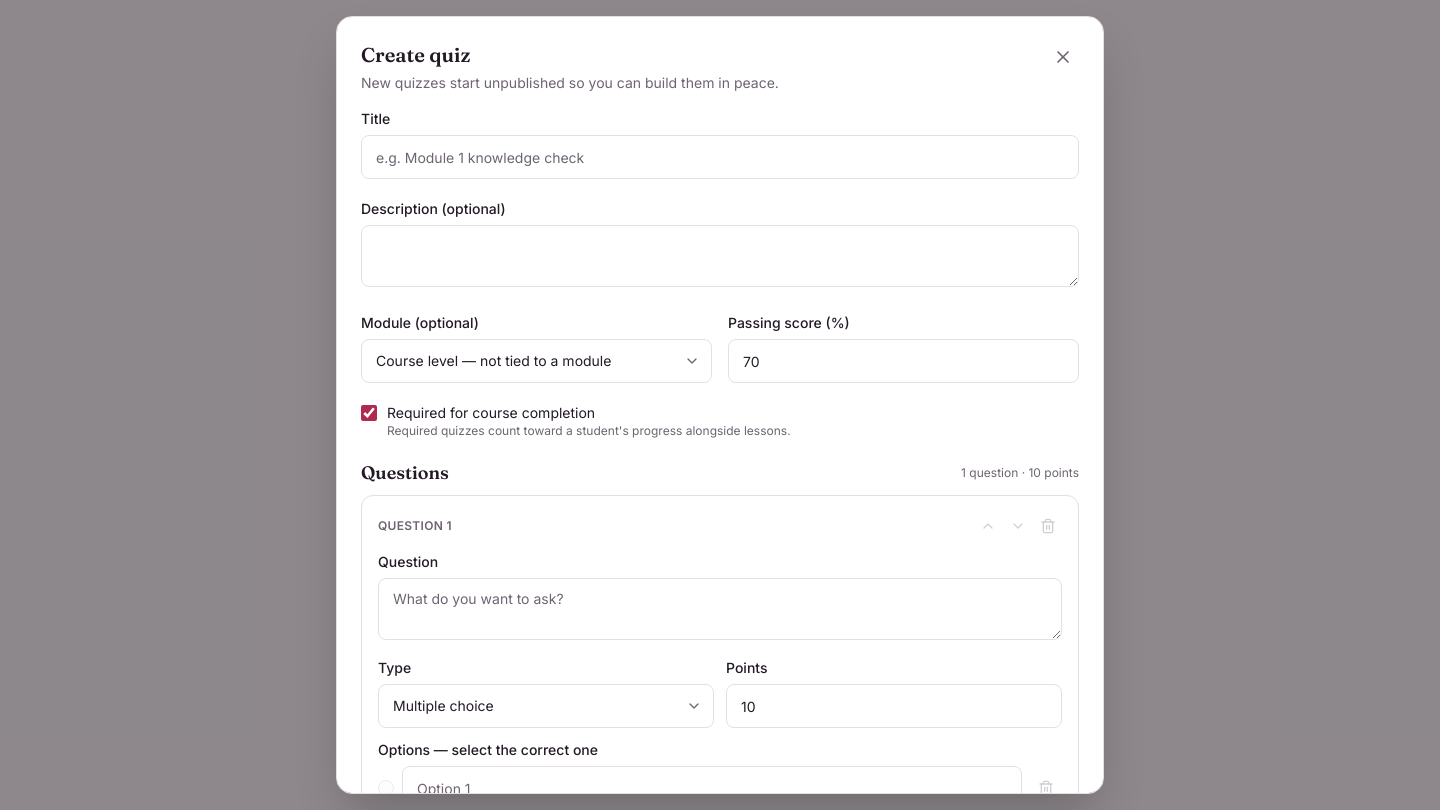
QuizBuilderModal › requires question text and a marked correct answer
Type "New Quiz" into the field labelled "Title". click: [720, 157]
box: [361,135,1079,179]
(page scrolled)
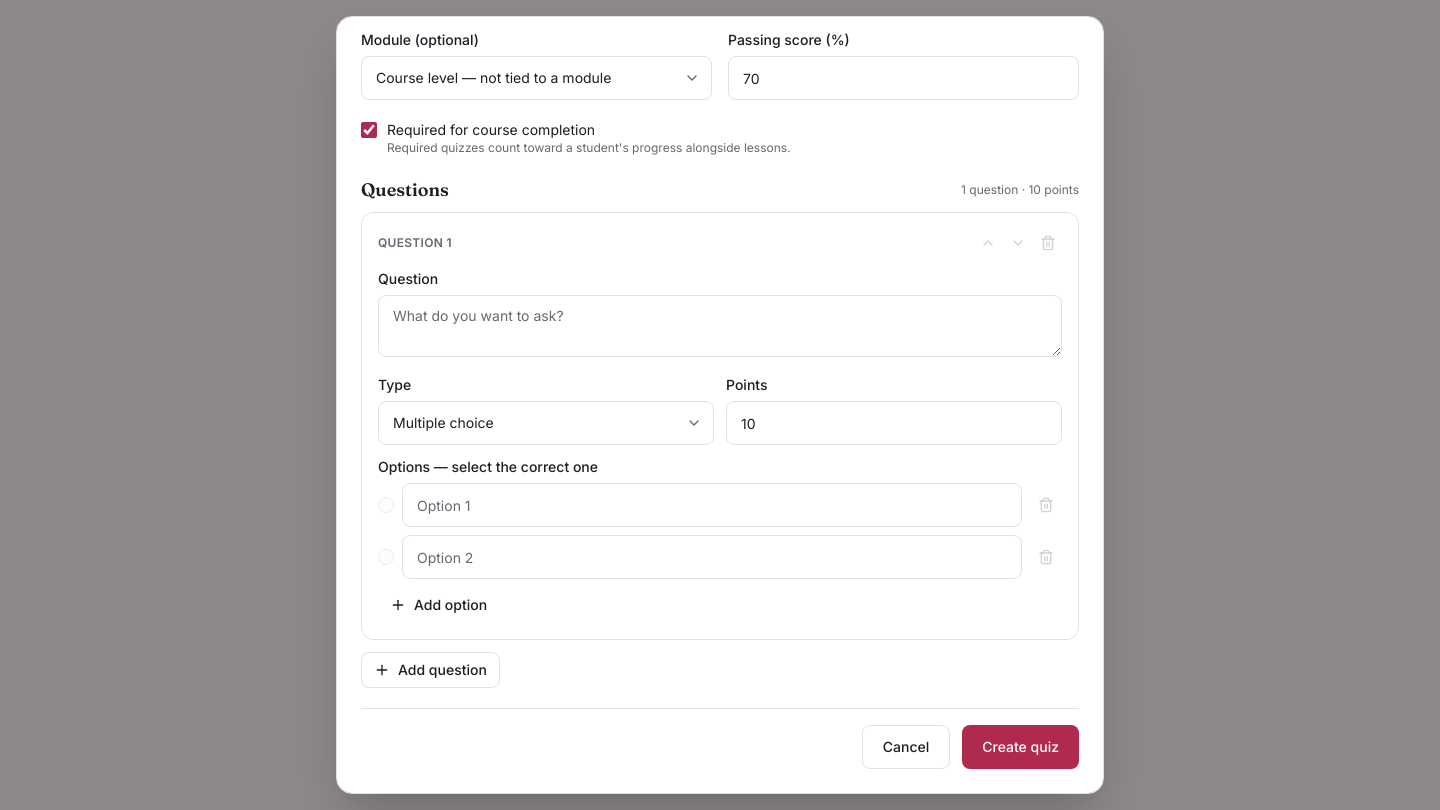
Click the button "Create quiz". click: [1021, 747]
box: [962,725,1079,769]
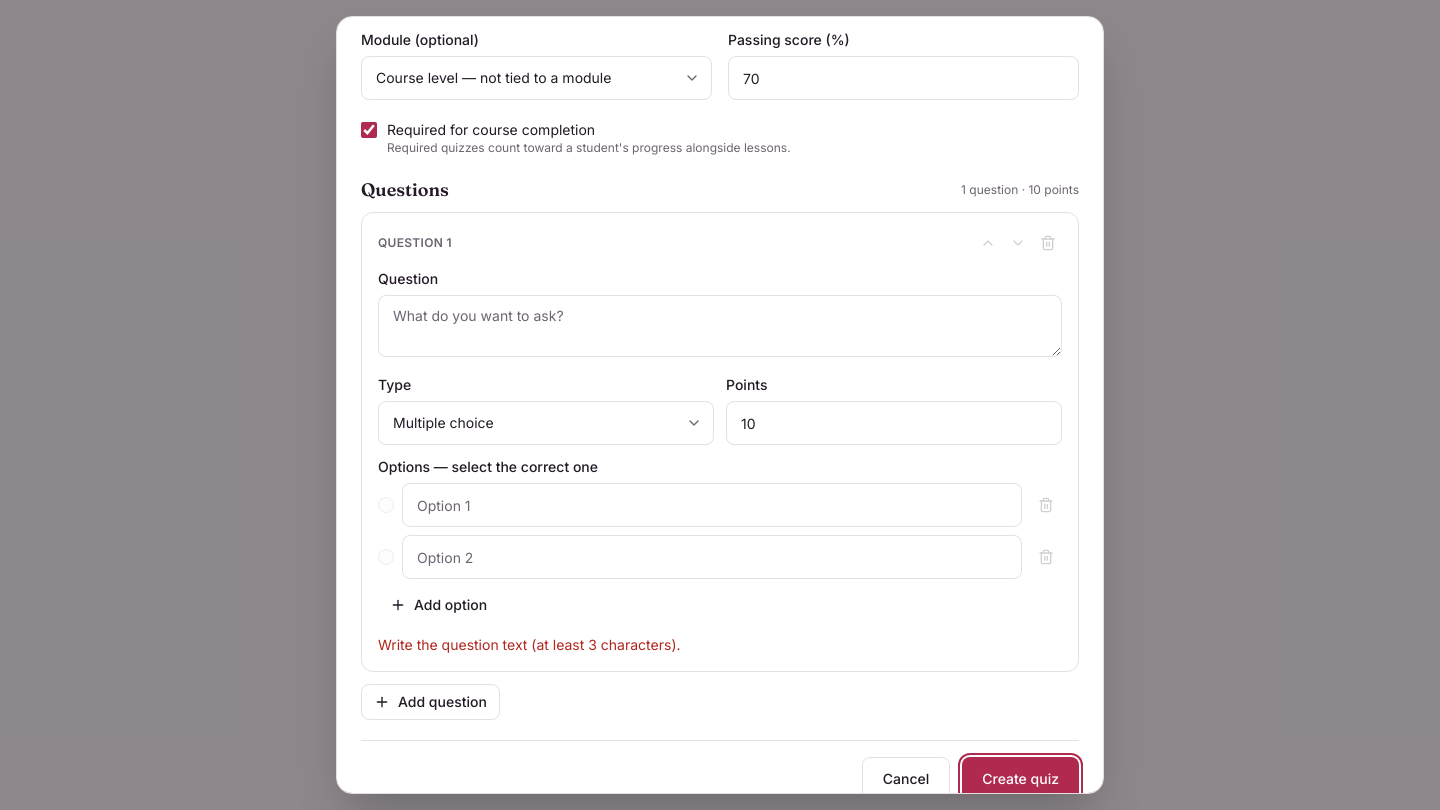
Expected: the text "Write the question text (at least 3 characters)." is shown, [378,636,680,653]
Type "What is 2 + 2?" into the text box labelled "Question". click: [720, 326]
box: [378,295,1062,357]
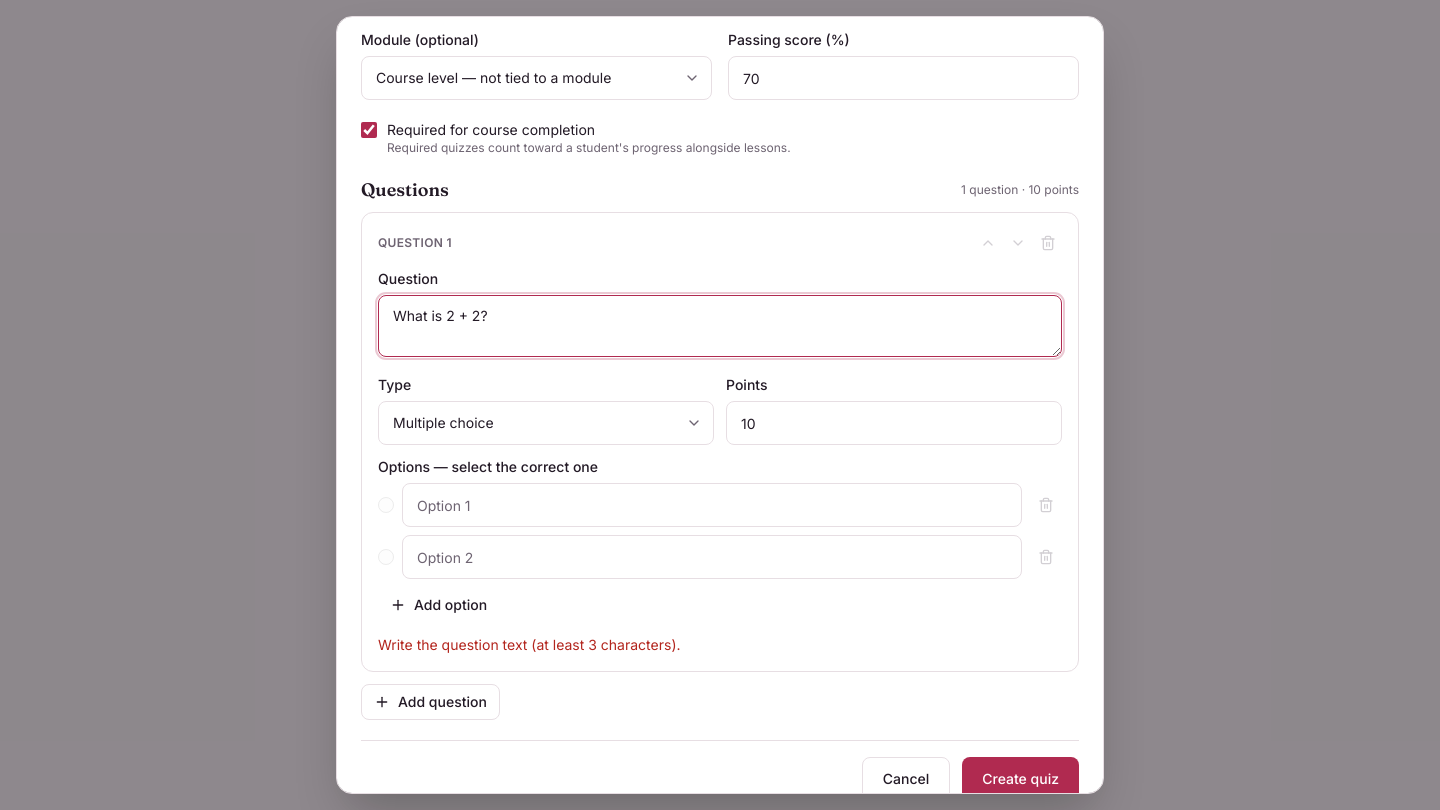
Click the button "Create quiz". click: [1021, 779]
box: [962,757,1079,801]
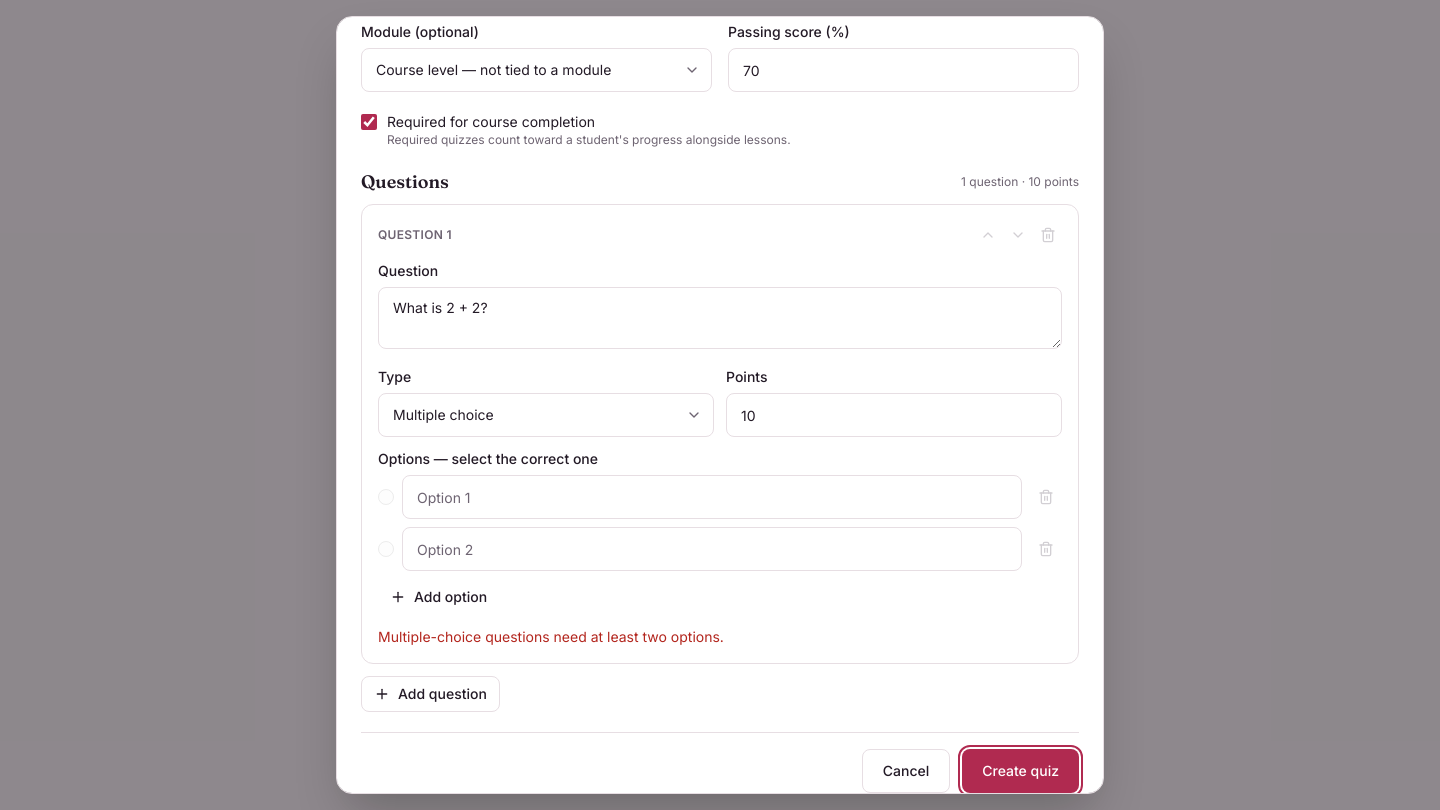
Expected: the text "Multiple-choice questions need at least two options." is shown, [378,628,724,645]
